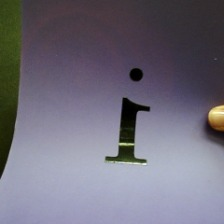violet1: (96, 66, 160, 167)
